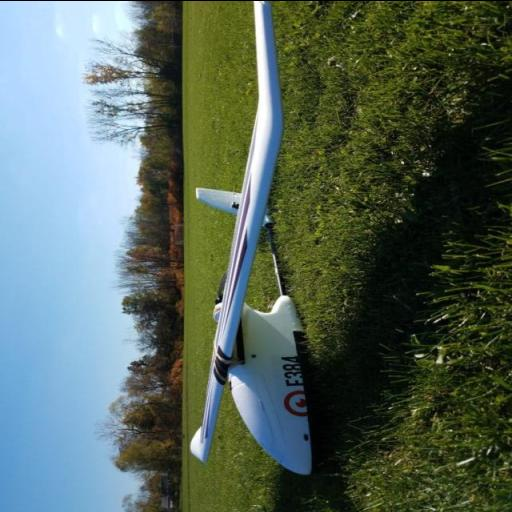uav: (181, 0, 320, 471)
